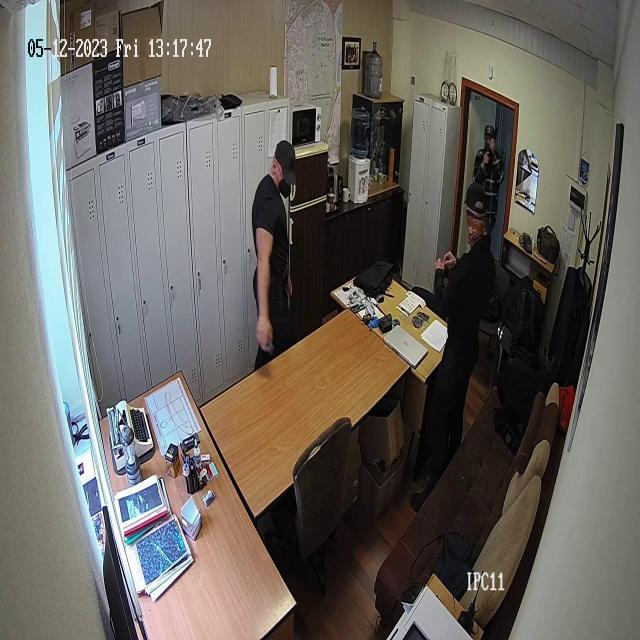pistol: (484, 124, 501, 169)
